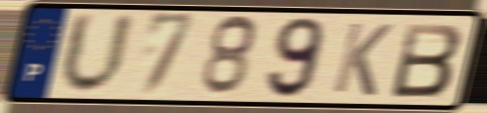7: (131, 10, 197, 101)
8: (197, 13, 261, 100)
9: (263, 15, 327, 101)
B: (388, 20, 466, 99)
K: (329, 20, 396, 99)
U: (56, 10, 139, 98)
